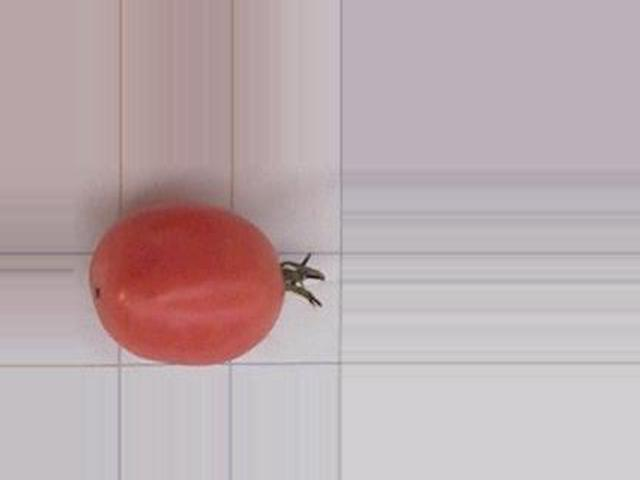tomato: (88, 203, 282, 365)
